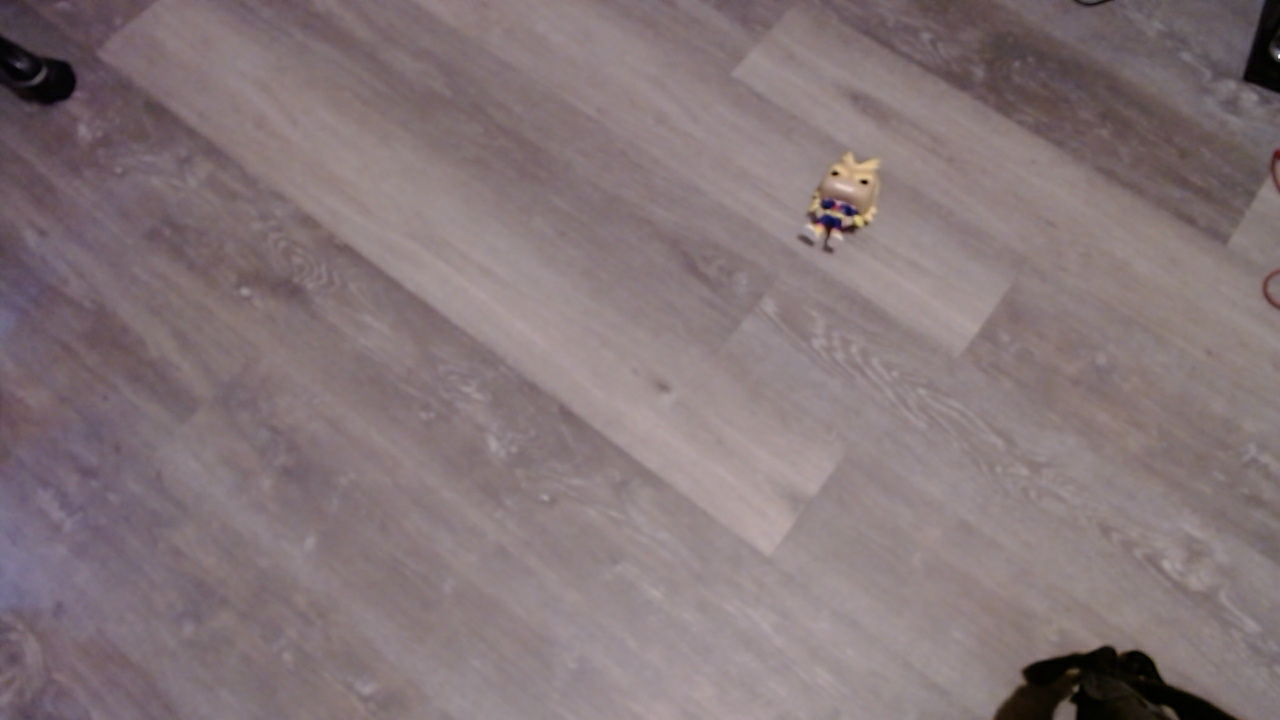all_might: (801, 152, 896, 262)
